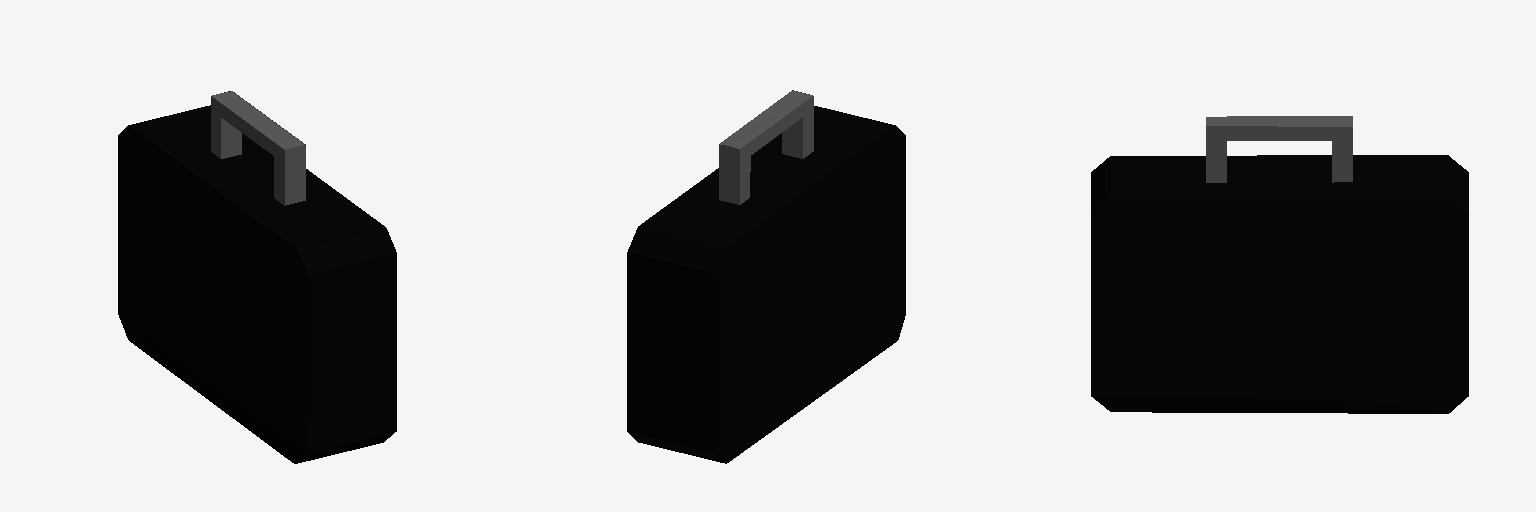
File: case.obj
The picture shows the model from 3 angles: view 1: azimuth 30°, elevation 25°; view 2: azimuth 150°, elevation 25°; view 3: azimuth 270°, elevation 25°; orthographic projection.
Parts seen in each view (by area): view 1: Cube; view 2: Cube; view 3: Cube.
Boxes of the visible parts, x1=… form: Cube: x1=118, y1=91, x2=396, y2=463; Cube: x1=627, y1=90, x2=905, y2=463; Cube: x1=1091, y1=116, x2=1468, y2=413.
Size of the model in its own units: 1.06 by 3.01 by 3.81.